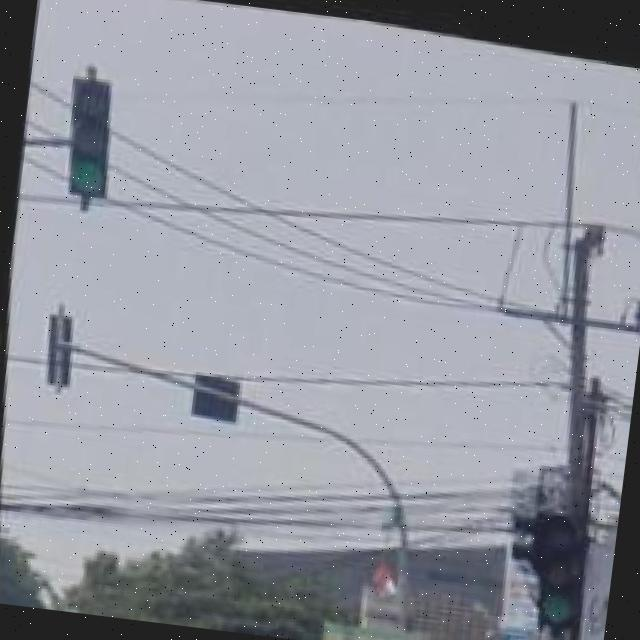green_light: (54, 72, 122, 202), (524, 504, 588, 622)
